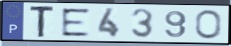3: (130, 7, 154, 39)
4: (96, 7, 121, 39)
9: (163, 10, 188, 38)
E: (60, 7, 92, 38)
O: (194, 9, 223, 40)
T: (28, 5, 57, 39)
